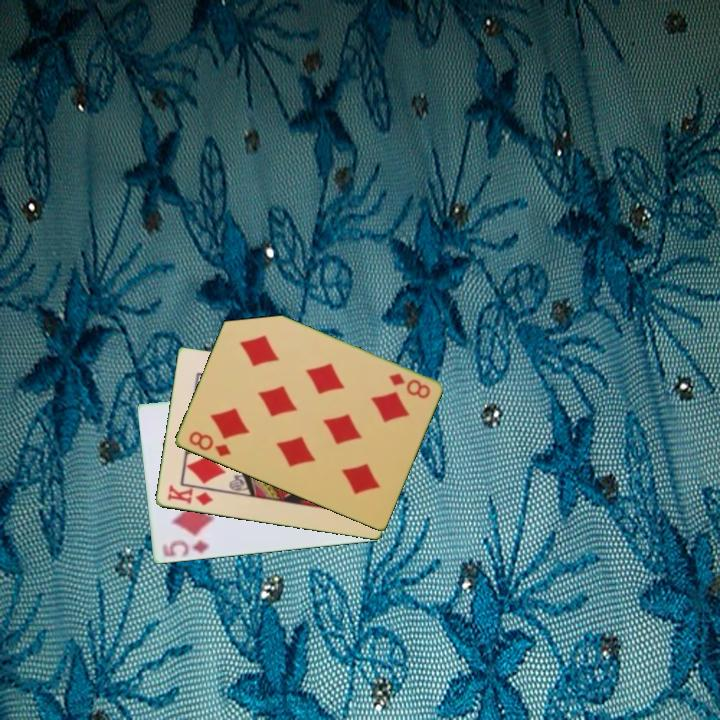5d: (158, 537, 212, 560)
8d: (384, 370, 433, 402), (185, 428, 233, 460)
Kd: (164, 482, 215, 509)
